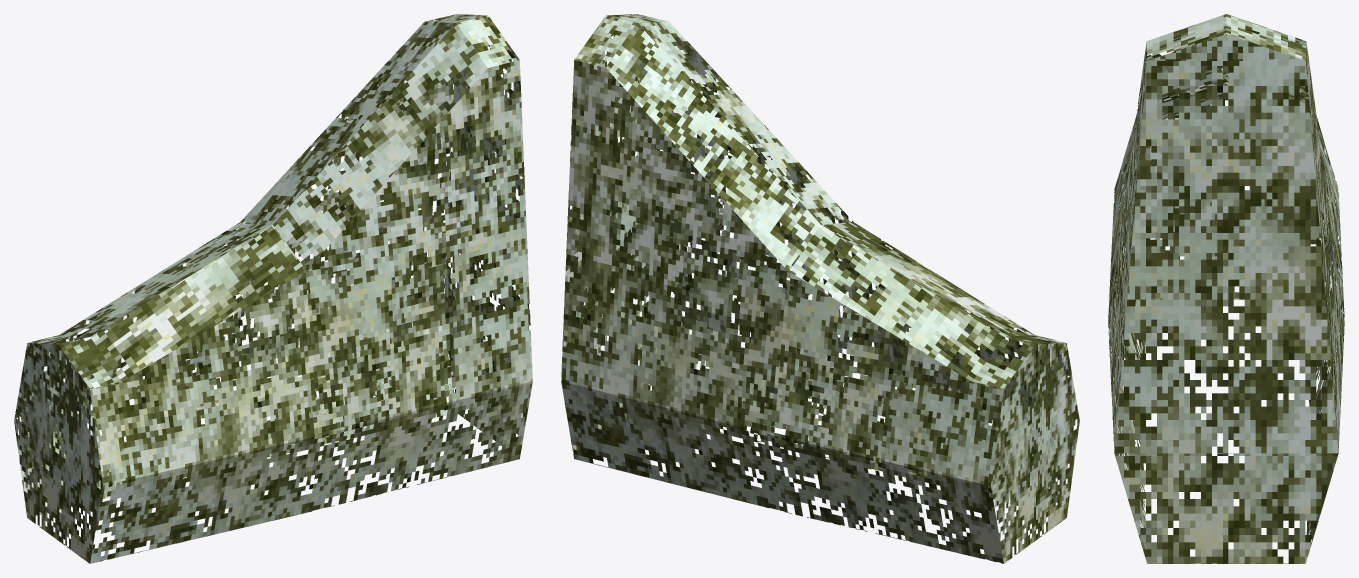
File: bush_connector_ornamental_winter.glb
The picture shows the model from 3 angles, left to right: view 1: azimuth 30°, elevation 25°; view 2: azimuth 150°, elevation 25°; view 3: azimuth 270°, elevation 25°; orthographic projection. The views are drawn at different scales.
Parts seen in each view (by area): view 1: bush_connector_ornamental_winter; view 2: bush_connector_ornamental_winter; view 3: bush_connector_ornamental_winter.
Part boxes in pixels (<box>): bush_connector_ornamental_winter: <box>14,14,532,563</box>; bush_connector_ornamental_winter: <box>561,14,1079,563</box>; bush_connector_ornamental_winter: <box>1108,14,1344,563</box>.
Size of the model in its own units: 2.01 by 1.88 by 0.7592.
1 material, 1 textured.
